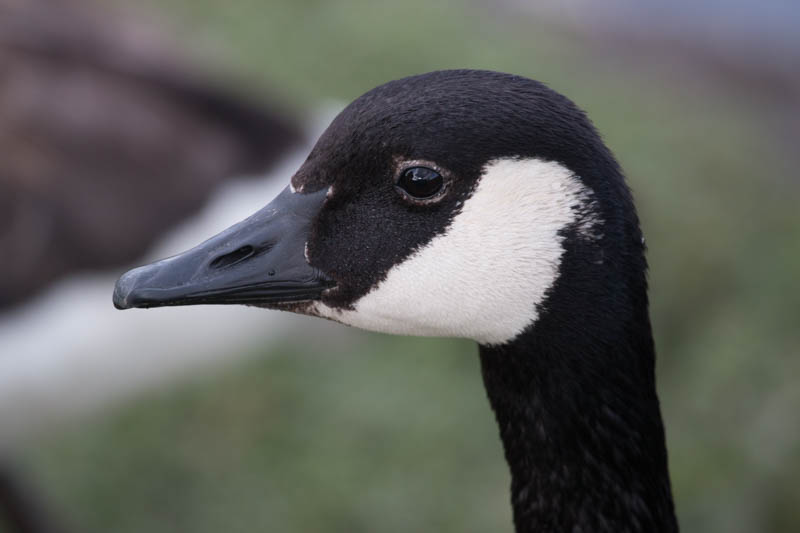goose-head: (111, 69, 648, 345)
